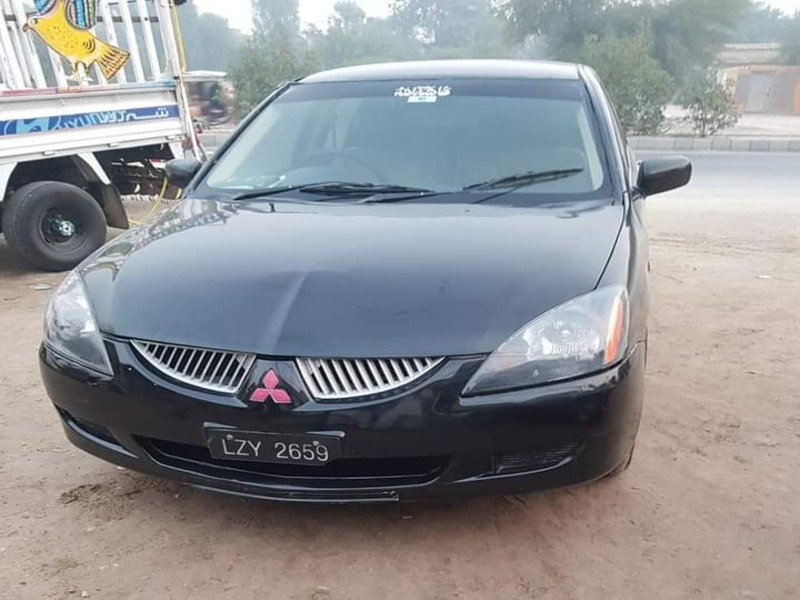License Plate: (202, 424, 349, 470)
